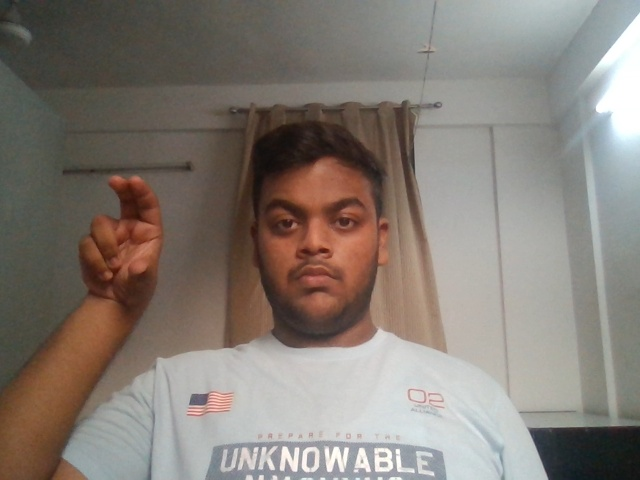No: (25, 160, 215, 334)
